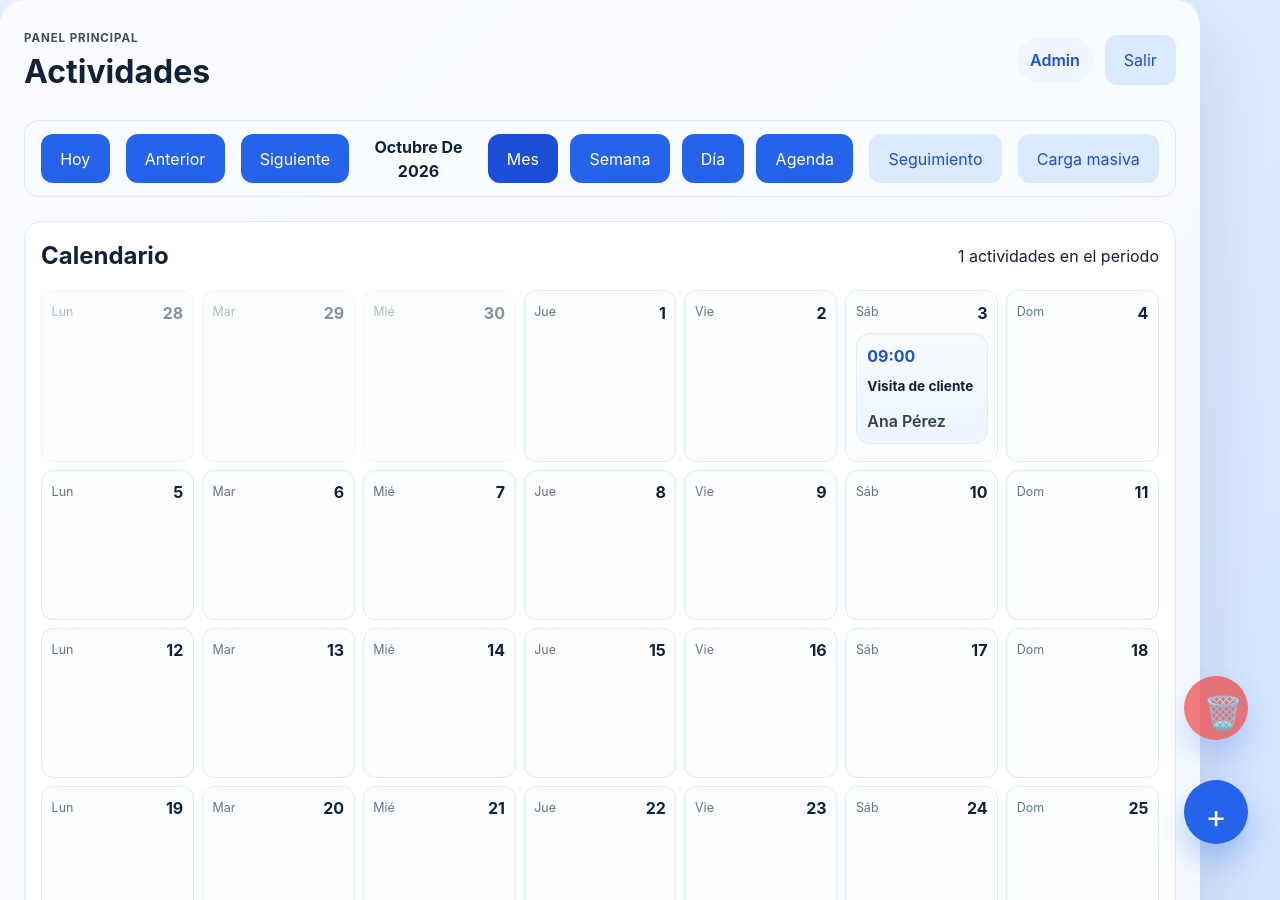
Test: ActivityCalendar › opens the activity modal with the real associate selector
Expected: the heading "Visita de cliente" is shown, [867,376,976,397]
Click the button named "Crear actividad".
click(1216, 812)  # box [1184,780,1248,844]
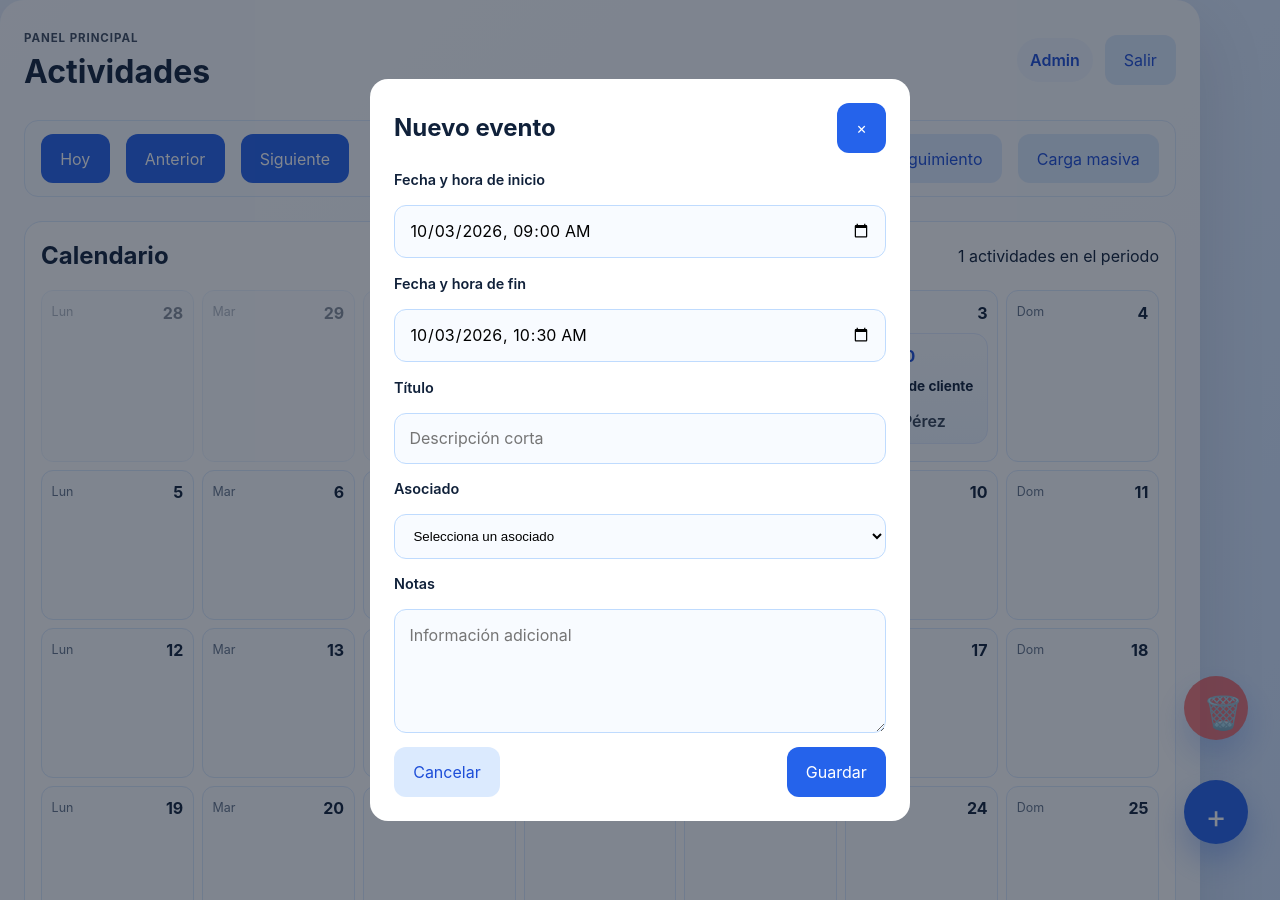
Now the dialog is shown
